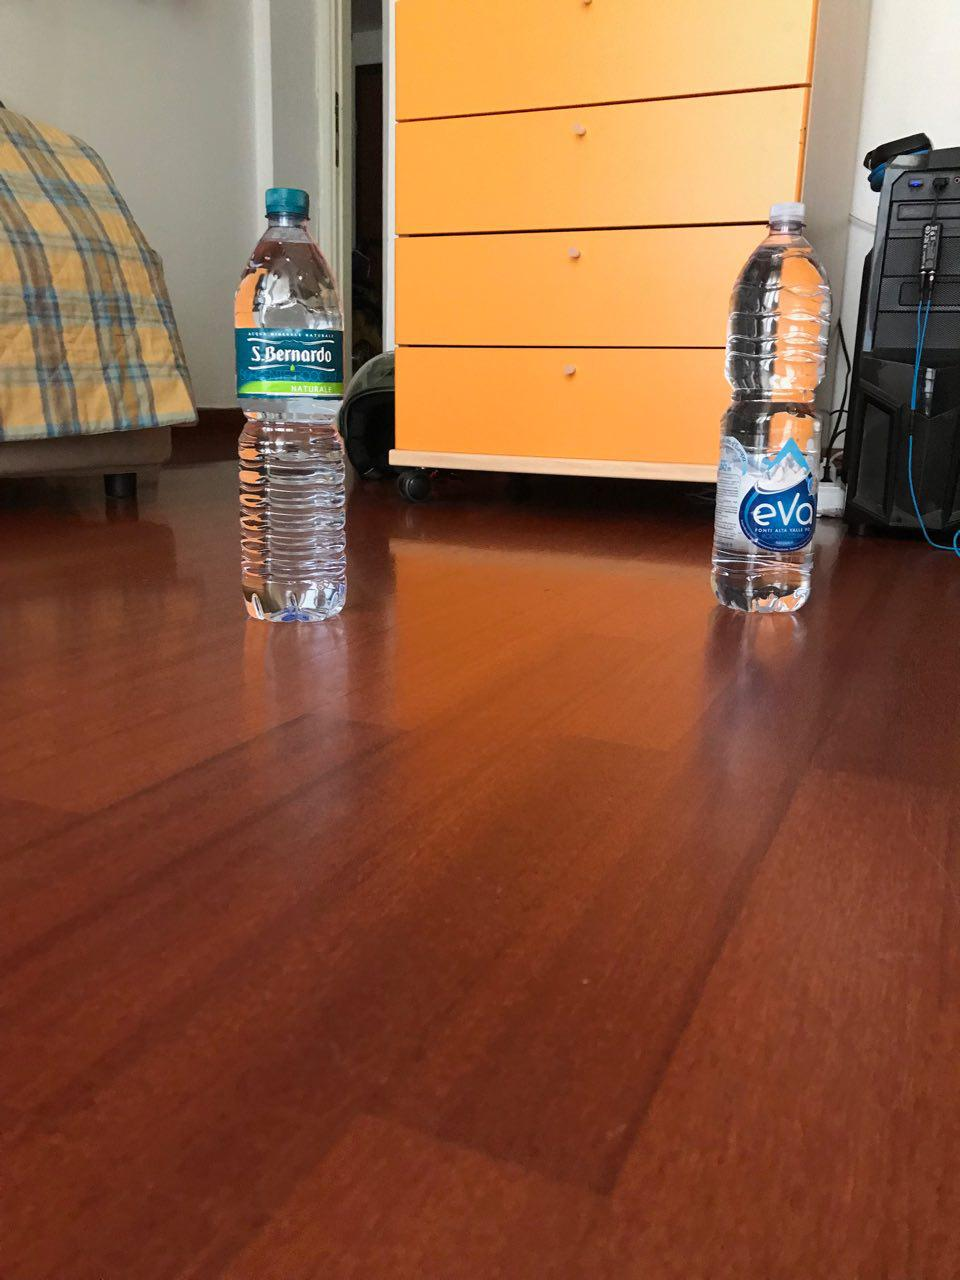san_bernardo: (232, 187, 350, 623)
